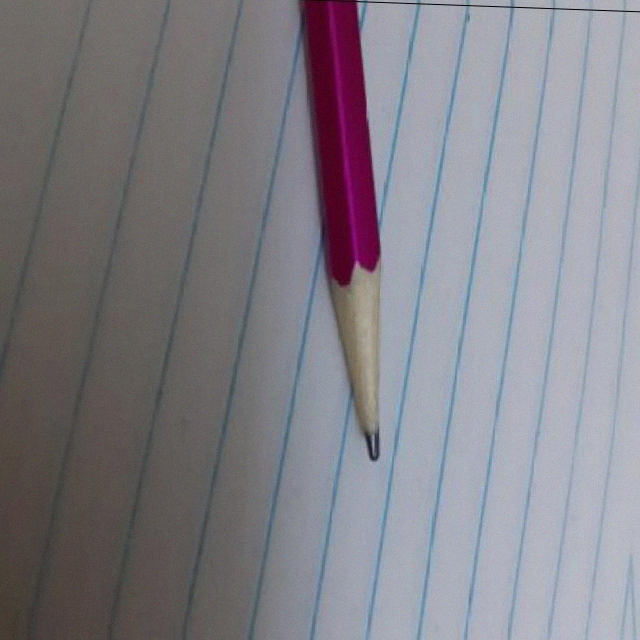pencil: (322, 255, 410, 470)
